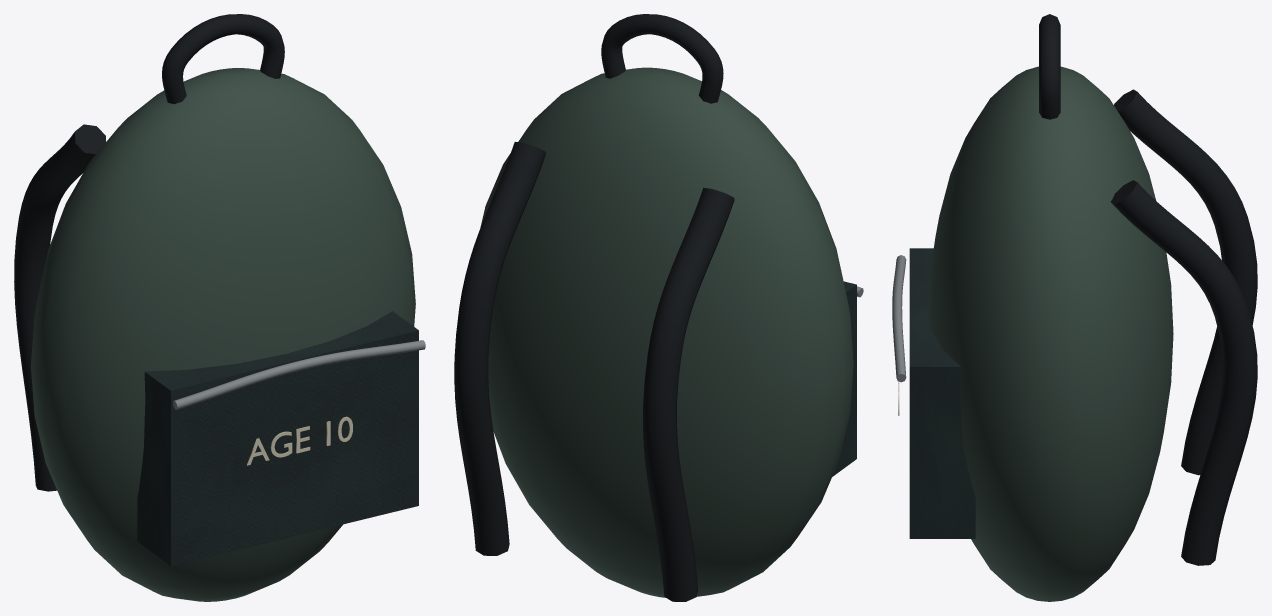
The model's file is school-backpack.glb.
3 renders of one model, left to right at view 1: azimuth 30°, elevation 25°; view 2: azimuth 150°, elevation 25°; view 3: azimuth 270°, elevation 25°, orthographic. The views are drawn at different scales.
Parts seen in each view (by area): view 1: Canvas bag, Front pocket, Shoulder strap, Carry loop, Zip, Name label; view 2: Canvas bag, Shoulder strap.001, Shoulder strap, Carry loop, Front pocket; view 3: Canvas bag, Shoulder strap.001, Front pocket, Shoulder strap, Carry loop, Zip.
Boxes of the visible parts, left/top/right/bottom form: Canvas bag: left=31, top=68, right=415, bottom=601; Front pocket: left=137, top=311, right=418, bottom=566; Shoulder strap: left=14, top=124, right=105, bottom=491; Carry loop: left=162, top=14, right=284, bottom=104; Zip: left=173, top=340, right=425, bottom=409; Name label: left=247, top=416, right=352, bottom=465; Canvas bag: left=480, top=67, right=853, bottom=597; Shoulder strap.001: left=454, top=142, right=545, bottom=555; Shoulder strap: left=643, top=187, right=734, bottom=601; Carry loop: left=601, top=14, right=723, bottom=103; Front pocket: left=832, top=281, right=856, bottom=476; Canvas bag: left=927, top=66, right=1173, bottom=601; Shoulder strap.001: left=1111, top=180, right=1257, bottom=565; Front pocket: left=909, top=248, right=975, bottom=538; Shoulder strap: left=1114, top=89, right=1257, bottom=475; Carry loop: left=1039, top=14, right=1060, bottom=119; Zip: left=892, top=255, right=906, bottom=382.
Bounding box in the file's own units: 0.5 × 0.7578 × 0.4431.
5 materials, 1 textured.
